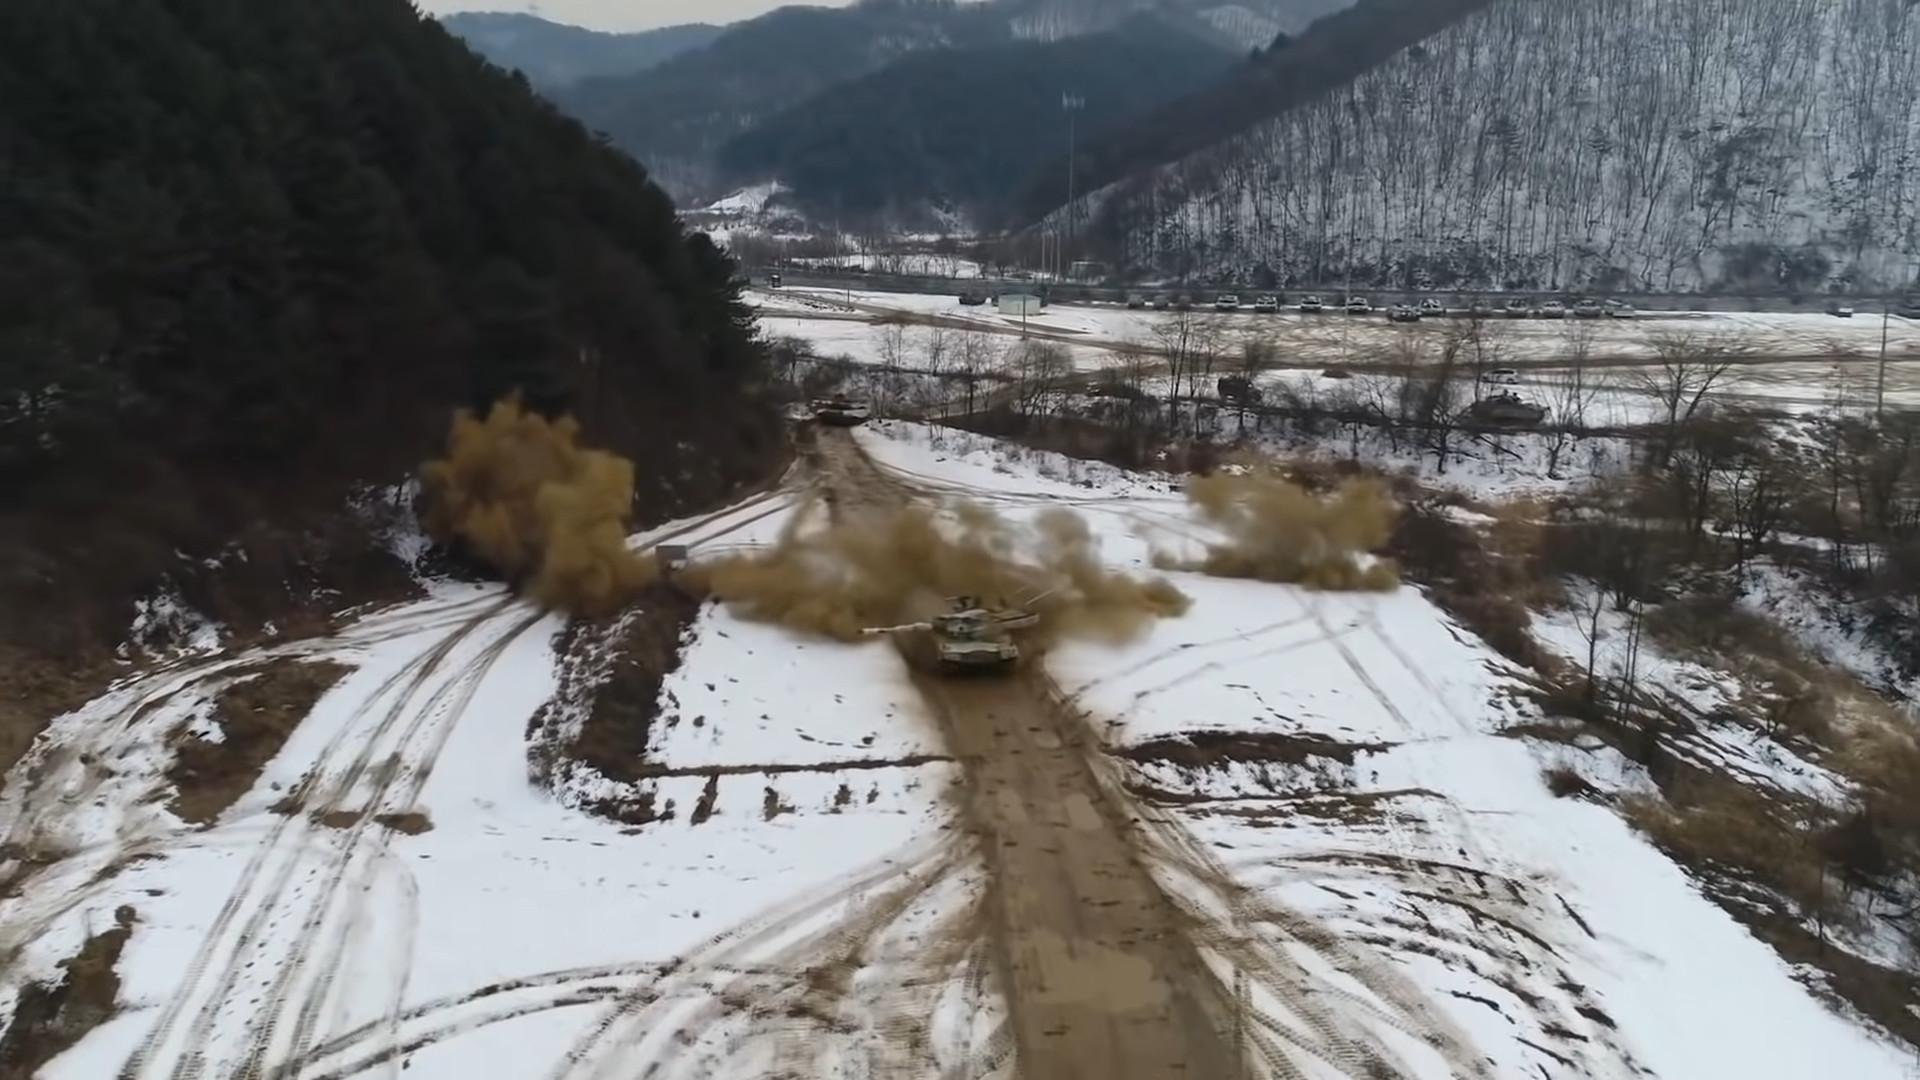tank: (857, 595, 1040, 676)
